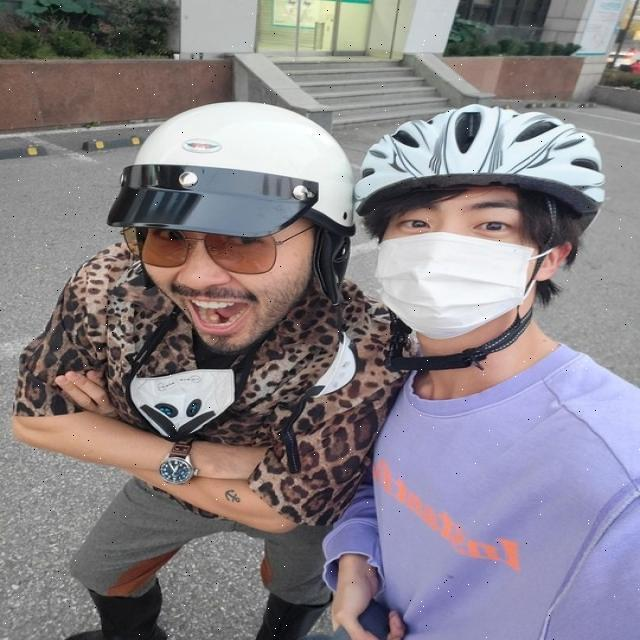helmet: (360, 104, 604, 376), (110, 100, 356, 358)
